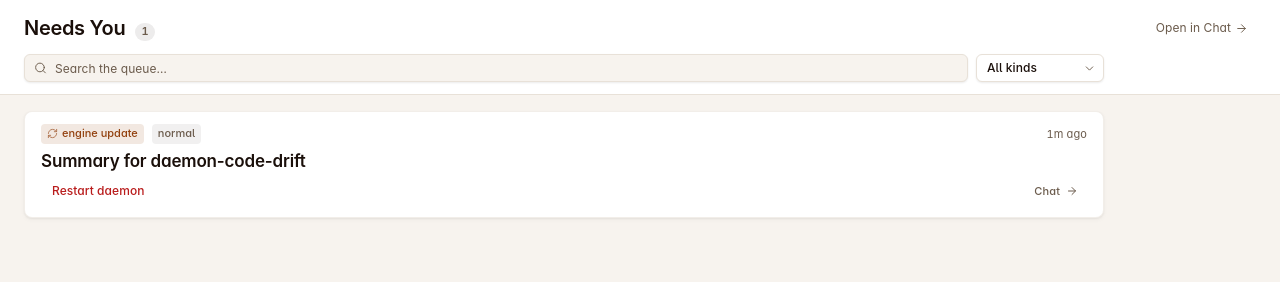
Test case: TriageRow – daemon-code-drift verb fires invokeAction without entityId › arms a confirmation first — a daemon restart is not a one-click action
Click the button with test id "triage-verb-restart-daemon".
click(98, 191)  # box [41,177,156,205]
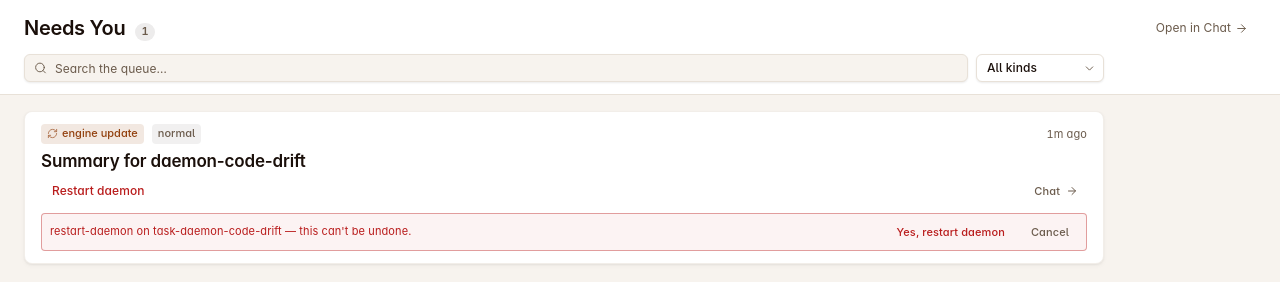
Check: the element with test id "triage-restart-confirm" is shown, box [41,213,1087,251]
